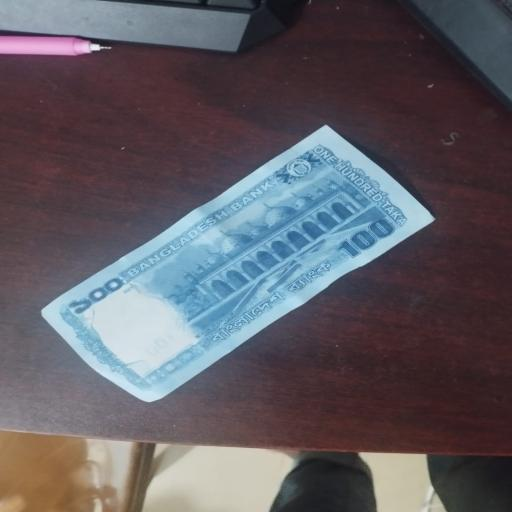100taka: (40, 121, 441, 406)
